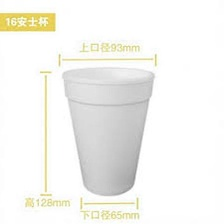paper_cup: (57, 63, 158, 199)
